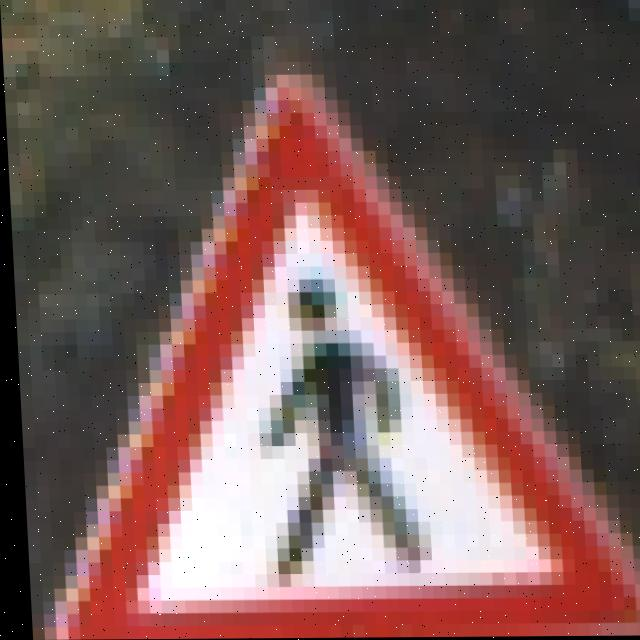crosswalk: (53, 111, 626, 640)
